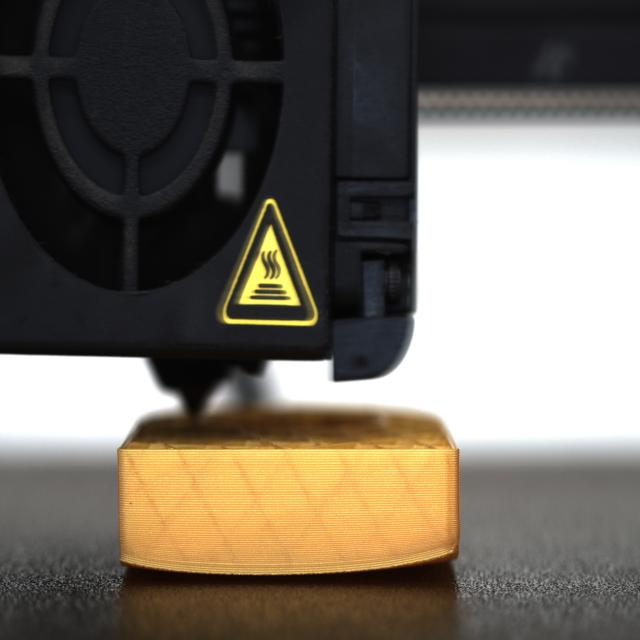Warping: (368, 542, 461, 578), (112, 549, 184, 585)
